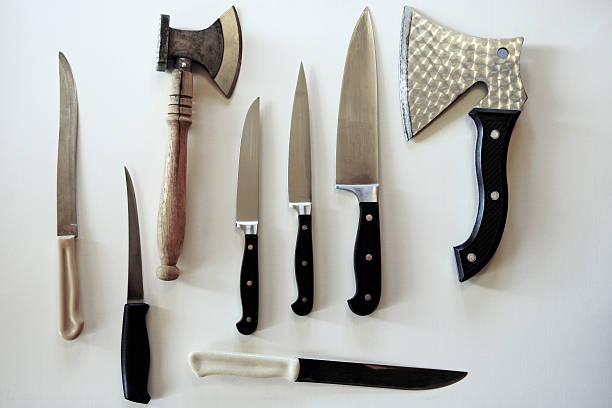knife: (331, 2, 385, 316), (188, 349, 472, 393), (54, 51, 87, 343), (117, 164, 153, 406), (285, 59, 317, 317), (234, 94, 263, 338)
